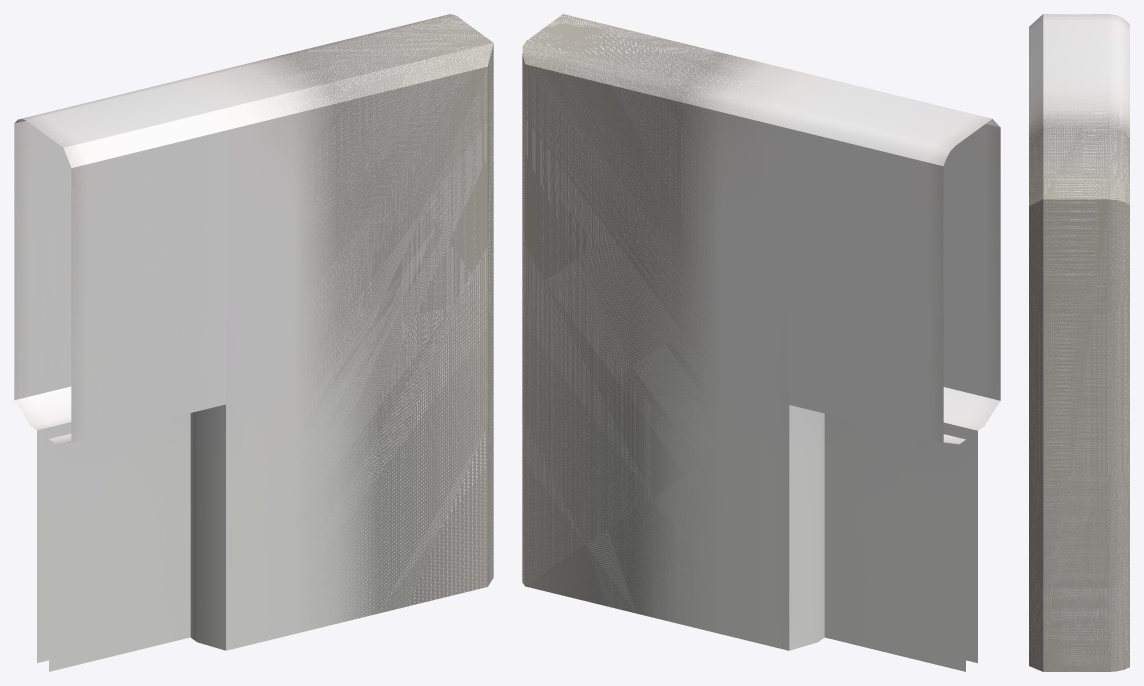
The model's file is original-58.obj.
3 renders of one model, left to right at view 1: azimuth 30°, elevation 25°; view 2: azimuth 150°, elevation 25°; view 3: azimuth 270°, elevation 25°, orthographic. The views are drawn at different scales.
Visible parts, largest first — view 1: LT_11_TR1/LT_11_TR/mesh39/mesh39-geometry#mesh39-geometry; view 2: LT_11_TR1/LT_11_TR/mesh39/mesh39-geometry#mesh39-geometry; view 3: LT_11_TR1/LT_11_TR/mesh39/mesh39-geometry#mesh39-geometry.
Boxes of the visible parts, left/top/right/bottom form: LT_11_TR1/LT_11_TR/mesh39/mesh39-geometry#mesh39-geometry: left=14, top=14, right=493, bottom=671; LT_11_TR1/LT_11_TR/mesh39/mesh39-geometry#mesh39-geometry: left=522, top=14, right=1000, bottom=671; LT_11_TR1/LT_11_TR/mesh39/mesh39-geometry#mesh39-geometry: left=1029, top=14, right=1129, bottom=671.
Bounding box in the file's own units: 0.1178 × 0.14 × 0.0271.
